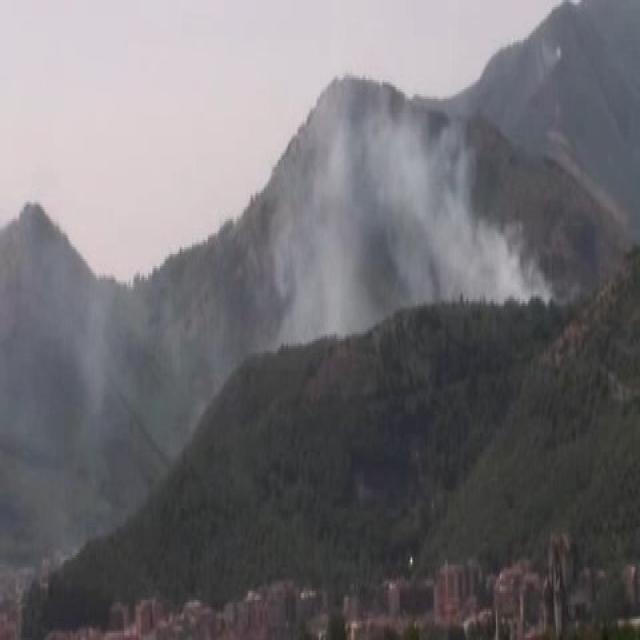Smoke: (304, 104, 541, 304)
